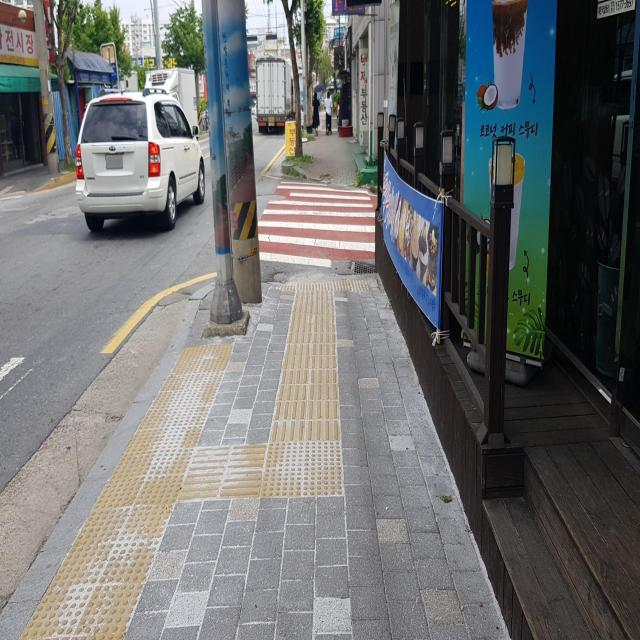횡단보도: (257, 180, 376, 269)
